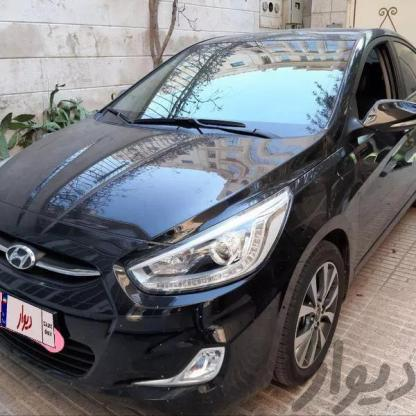Car: (0, 25, 416, 416)
